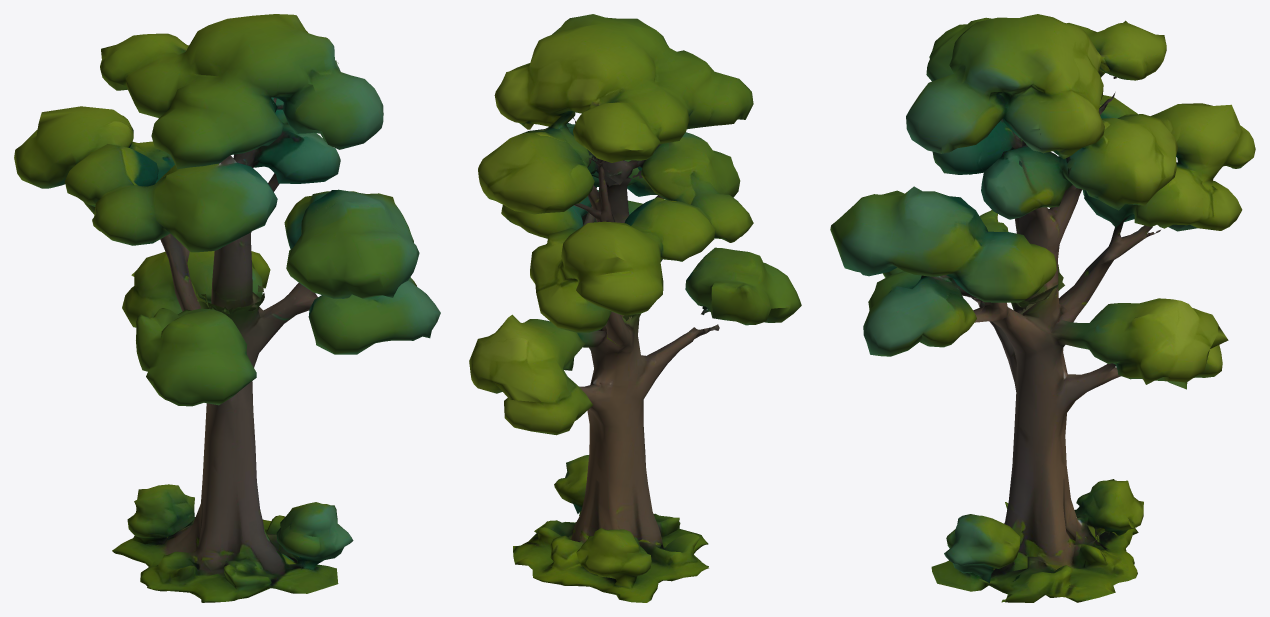
The model's file is SM_Vegetacion_ArbolBajoPoli_01.fbx.
The picture shows the model from 3 angles, left to right: view 1: azimuth 30°, elevation 25°; view 2: azimuth 150°, elevation 25°; view 3: azimuth 270°, elevation 25°; orthographic projection. The views are drawn at different scales.
Parts seen in each view (by area): view 1: SM_Vegetacion_ArbolBajoPoli_01; view 2: SM_Vegetacion_ArbolBajoPoli_01; view 3: SM_Vegetacion_ArbolBajoPoli_01.
Boxes of the visible parts, x1=… form: SM_Vegetacion_ArbolBajoPoli_01: x1=14, y1=14, x2=440, y2=602; SM_Vegetacion_ArbolBajoPoli_01: x1=469, y1=14, x2=801, y2=602; SM_Vegetacion_ArbolBajoPoli_01: x1=830, y1=14, x2=1255, y2=602.
Size of the model in its own units: 0.5208 by 0.9989 by 0.7083.
Materials: 1 (1 with a texture image).
